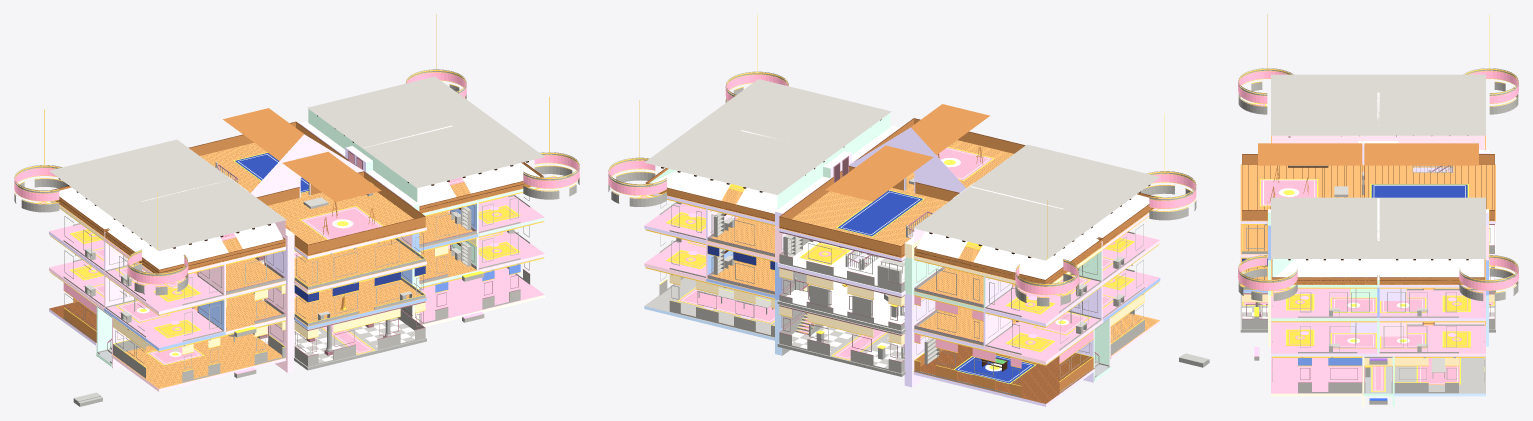
File: SM_ObeliskGirls_Interior.fbx
3 views of the same model, side by side, from view 1: azimuth 30°, elevation 25°; view 2: azimuth 150°, elevation 25°; view 3: azimuth 270°, elevation 25° (orthographic). The views are drawn at different scales.
Visible parts, largest first — view 1: SM_ObeliskGirls_Interior; view 2: SM_ObeliskGirls_Interior; view 3: SM_ObeliskGirls_Interior.
Boxes of the visible parts, left/top/right/bottom form: SM_ObeliskGirls_Interior: left=14, top=14, right=579, bottom=406; SM_ObeliskGirls_Interior: left=608, top=14, right=1209, bottom=406; SM_ObeliskGirls_Interior: left=1238, top=14, right=1518, bottom=406.
Bounding box in the file's own units: 53.76 × 22.81 × 27.93.
